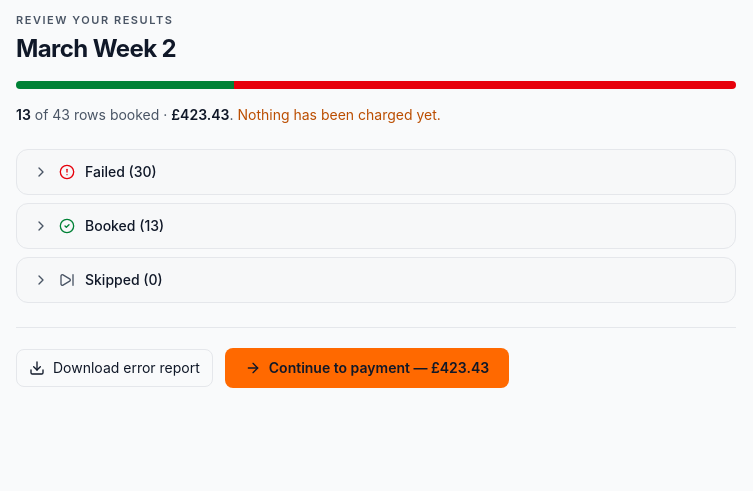
Scenario: a row with several bad columns says how many, rather than dropping them
Click the button "Failed (30)".
click(105, 171)  # box [17,150,735,194]
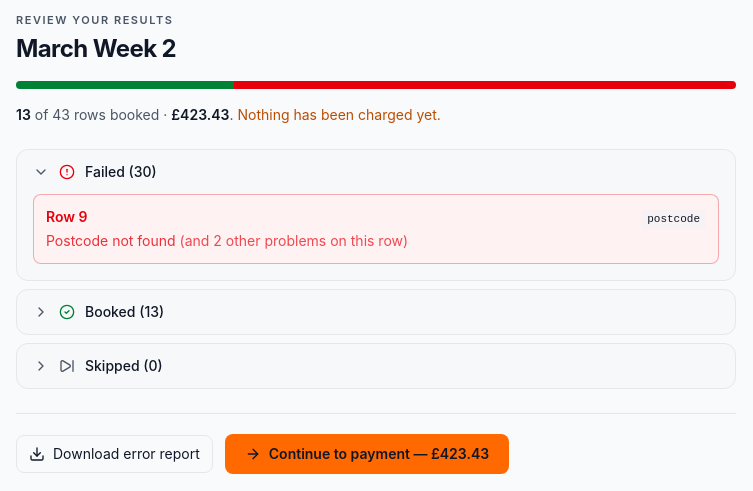
Result: the text "Postcode not found (and 2 other problems on this row)" is shown at [46,232,408,249]
Result: the text "(and 2 other problems on this row)" is shown at [176,232,408,249]
